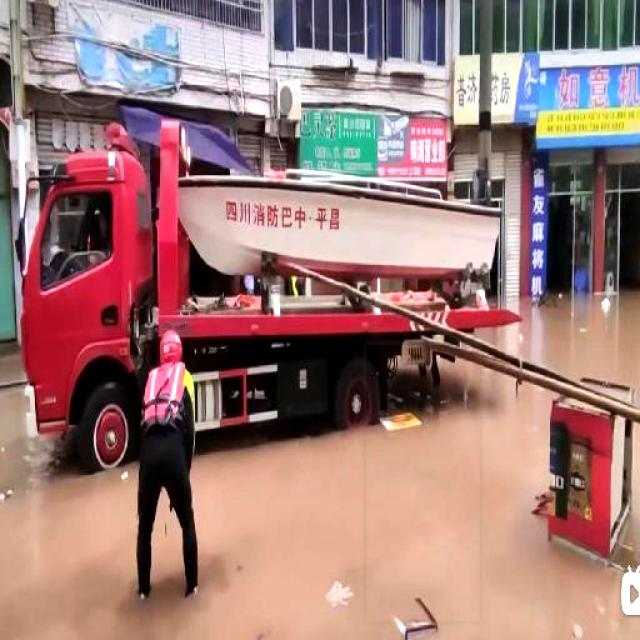rescuer: (114, 319, 233, 630)
